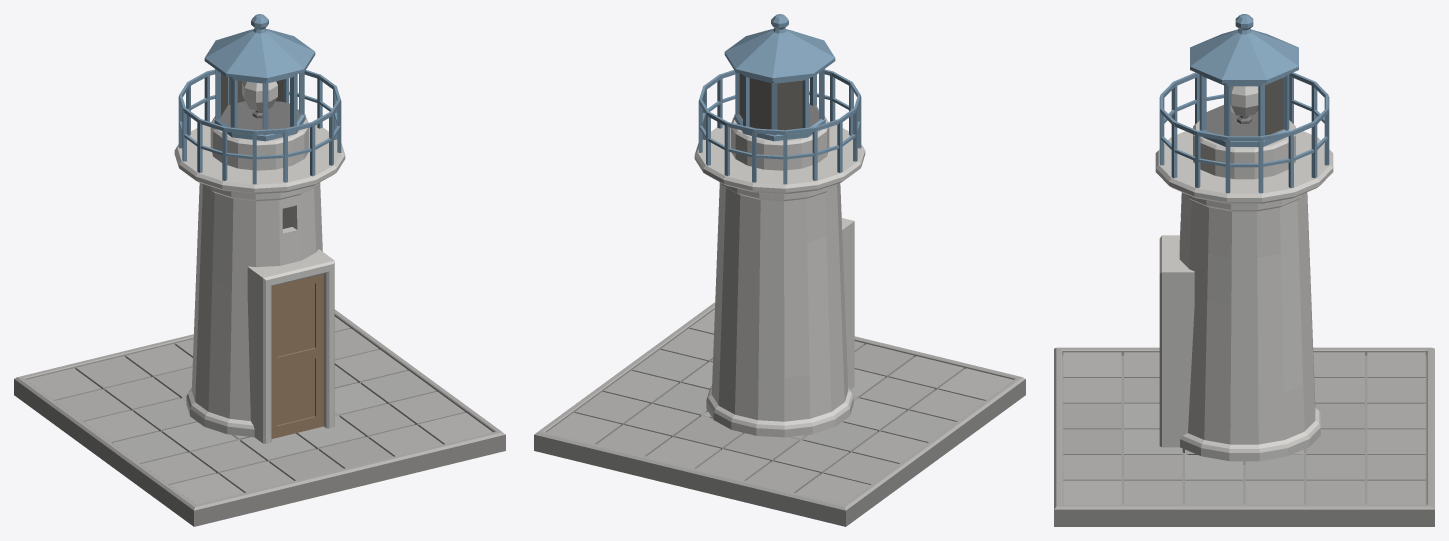
File: light.glb
3 views of the same model, side by side, from view 1: azimuth 30°, elevation 25°; view 2: azimuth 150°, elevation 25°; view 3: azimuth 270°, elevation 25° (orthographic). The views are drawn at different scales.
Visible parts, largest first — view 1: light; view 2: light; view 3: light.
Boxes of the visible parts, bbox=[...] form: light: bbox=[14, 14, 505, 526]; light: bbox=[534, 14, 1025, 526]; light: bbox=[1054, 14, 1434, 526].
Bounding box in the file's own units: 5.2 × 6.5 × 5.2.
